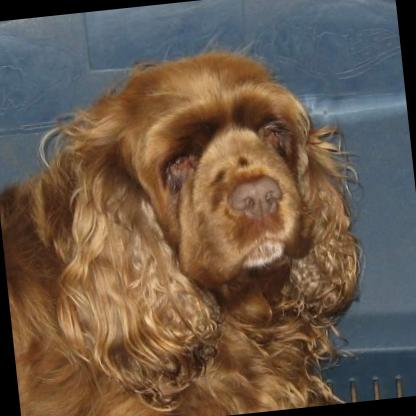Sussex_spaniel: (0, 36, 397, 416)
